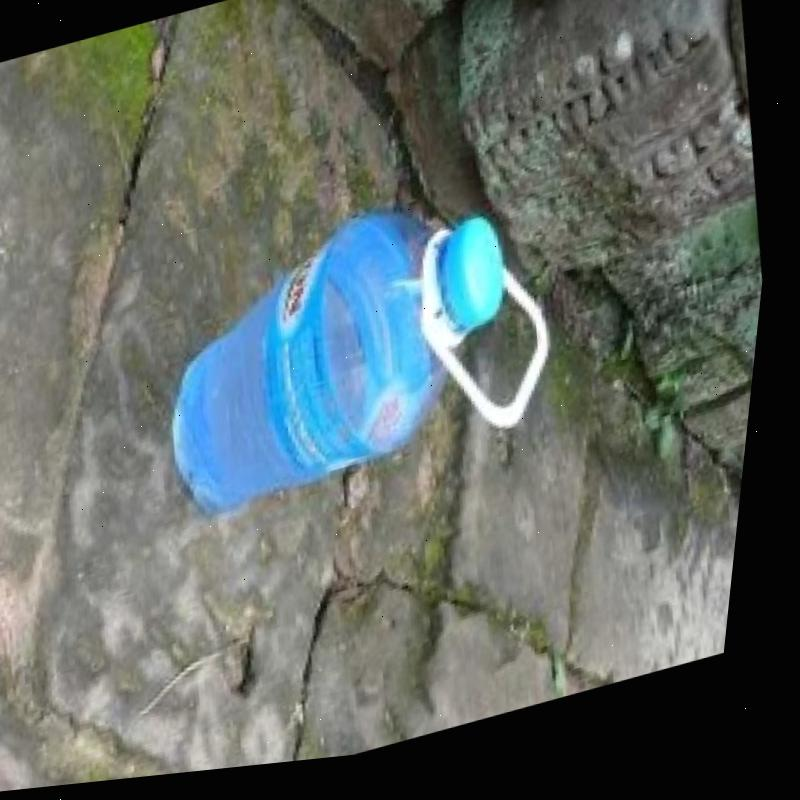botella: (135, 180, 549, 543)
